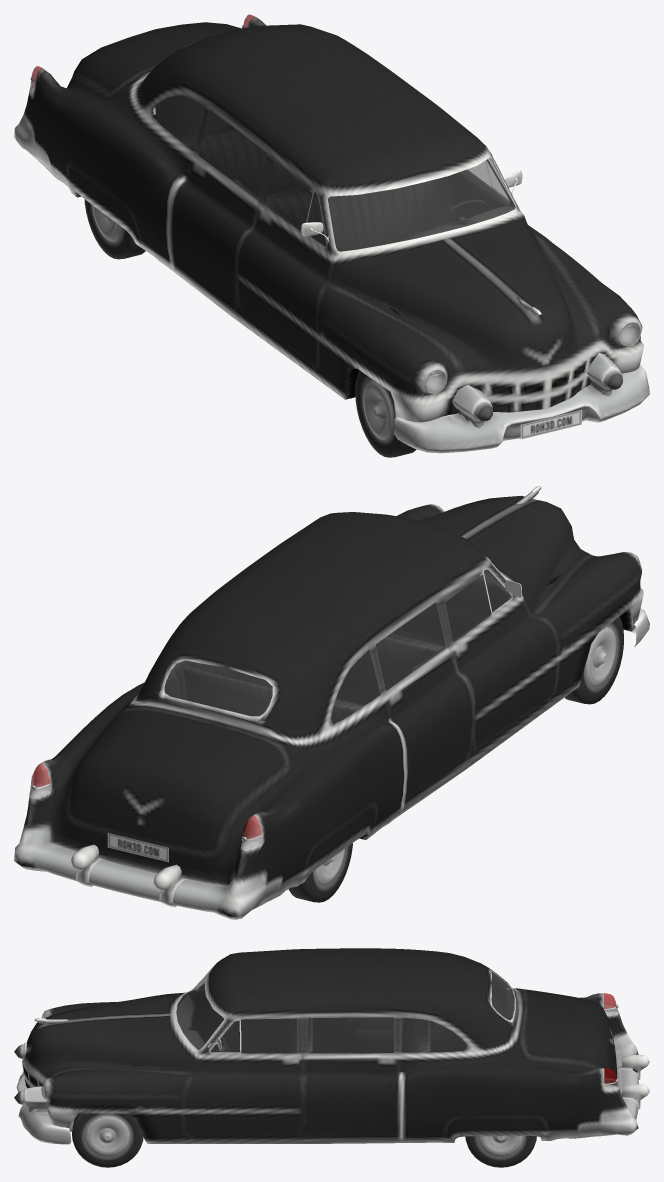
Rendered from car-small.glb.
3 views of the same model, one above another, from view 1: azimuth 30°, elevation 25°; view 2: azimuth 150°, elevation 25°; view 3: azimuth 270°, elevation 25° (orthographic). The views are drawn at different scales.
Parts seen in each view (by area): view 1: Object_2, Object_3, Object_4; view 2: Object_2, Object_3, Object_4; view 3: Object_2, Object_3, Object_4.
Part boxes in pixels (x1,y1,x2,y2): Object_2: [14, 16, 649, 453]; Object_3: [84, 95, 515, 457]; Object_4: [30, 14, 639, 392]; Object_2: [14, 486, 649, 919]; Object_3: [164, 569, 623, 902]; Object_4: [29, 561, 511, 848]; Object_2: [14, 948, 649, 1144]; Object_3: [72, 975, 536, 1167]; Object_4: [41, 968, 618, 1097].
Size of the model in its own units: 195 by 169 by 596.
3 materials, 3 textured.
